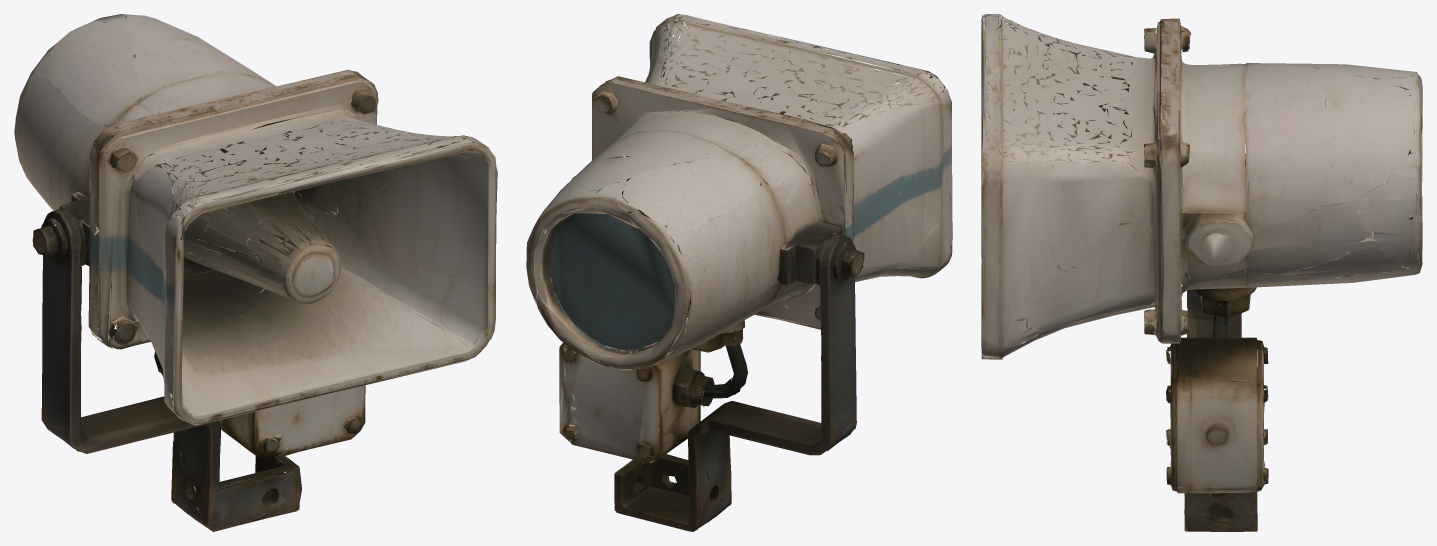
File: ch03_pa_speaker.glb
3 renders of one model, left to right at view 1: azimuth 30°, elevation 25°; view 2: azimuth 150°, elevation 25°; view 3: azimuth 270°, elevation 25°, orthographic. The views are drawn at different scales.
Visible parts, largest first — view 1: material; view 2: material; view 3: material.
Boxes of the visible parts, left/top/right/bottom form: material: left=14, top=14, right=497, bottom=531; material: left=526, top=14, right=952, bottom=531; material: left=981, top=14, right=1422, bottom=531.
Bounding box in the file's own units: 0.6389 × 0.7865 × 0.7404.
1 material, 1 textured.
